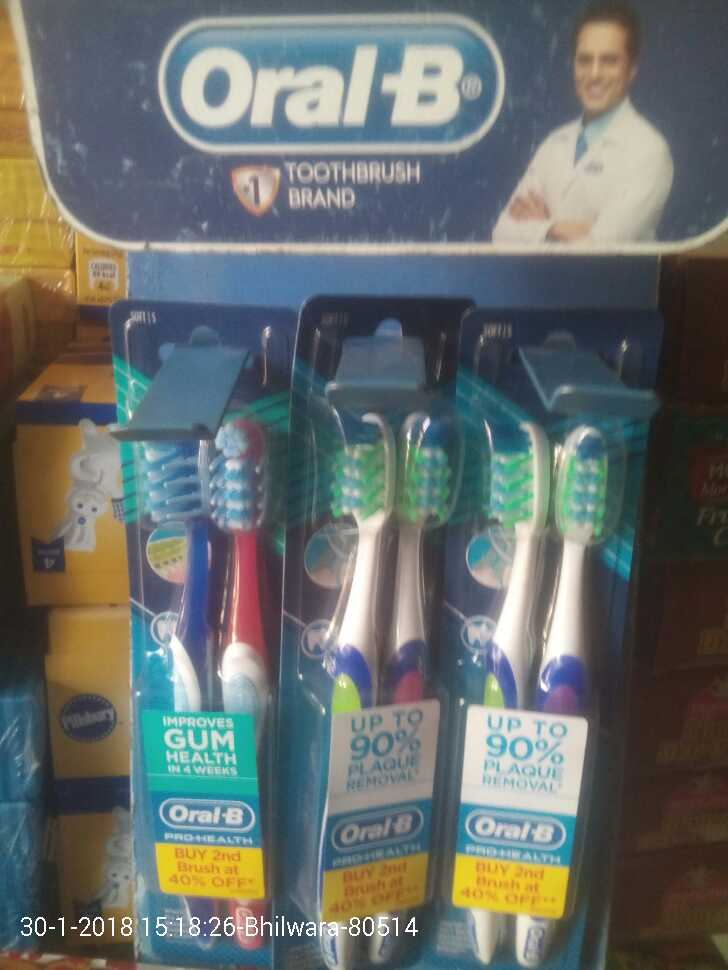oralb: (463, 301, 628, 938), (119, 300, 277, 898), (305, 304, 459, 910)
